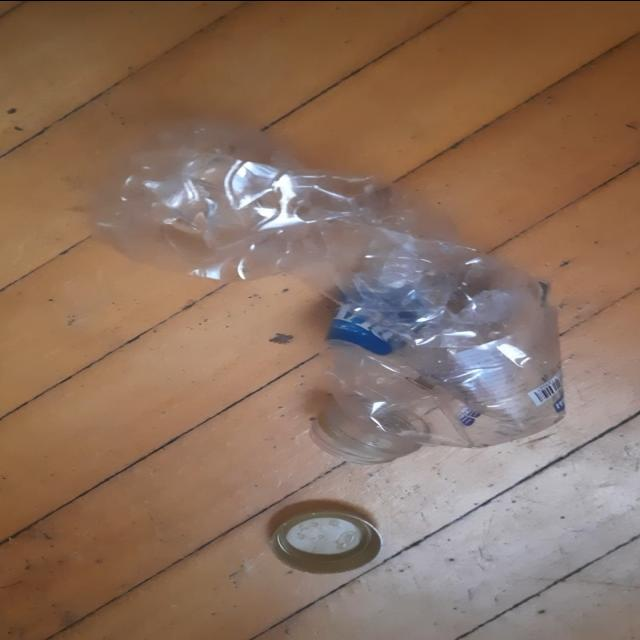Plastic: (84, 121, 566, 451)
